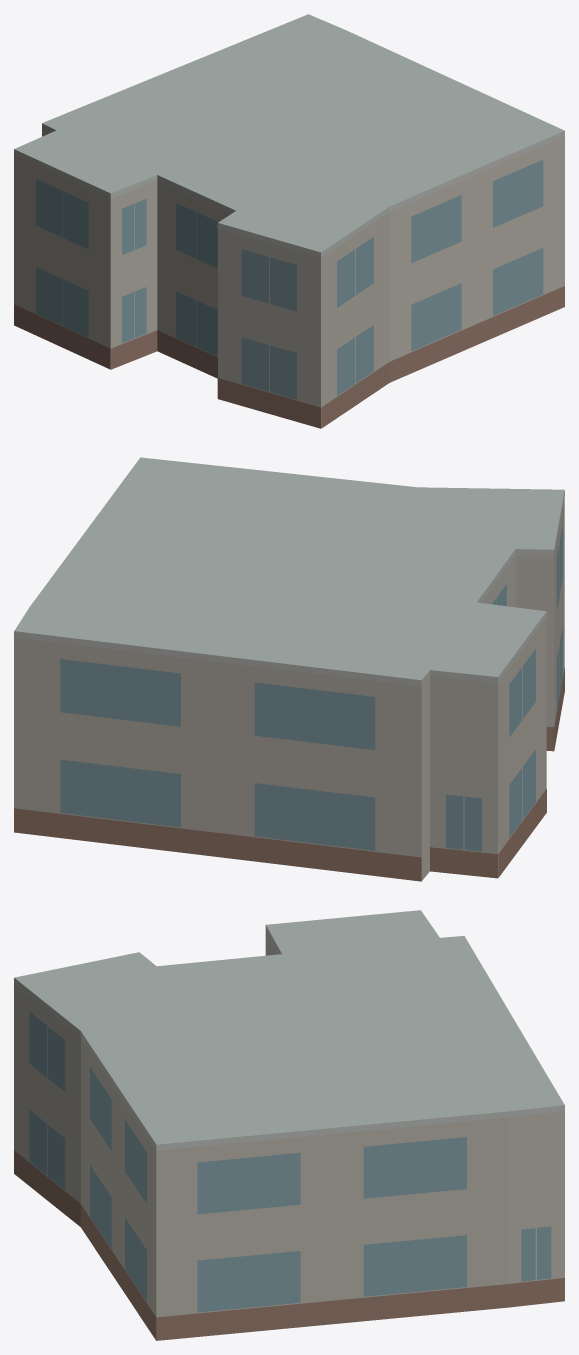
Rendered from survey-upis-32457062.glb.
3 renders of one model, top to bottom at view 1: azimuth 30°, elevation 25°; view 2: azimuth 150°, elevation 25°; view 3: azimuth 270°, elevation 25°, orthographic. The views are drawn at different scales.
Visible parts, largest first — view 1: survey-upis-32457062.tmp; view 2: survey-upis-32457062.tmp; view 3: survey-upis-32457062.tmp.
Part boxes in pixels (x1,y1,x2,y2): survey-upis-32457062.tmp: (14, 14, 564, 428); survey-upis-32457062.tmp: (14, 457, 564, 881); survey-upis-32457062.tmp: (14, 910, 564, 1340).
Size of the model in its own units: 20.28 by 7.9 by 20.11.
